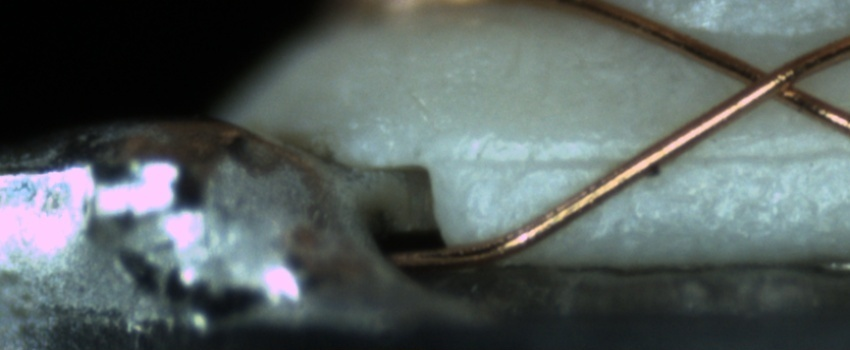CL: (716, 48, 822, 114)
DL: (449, 128, 849, 193)
